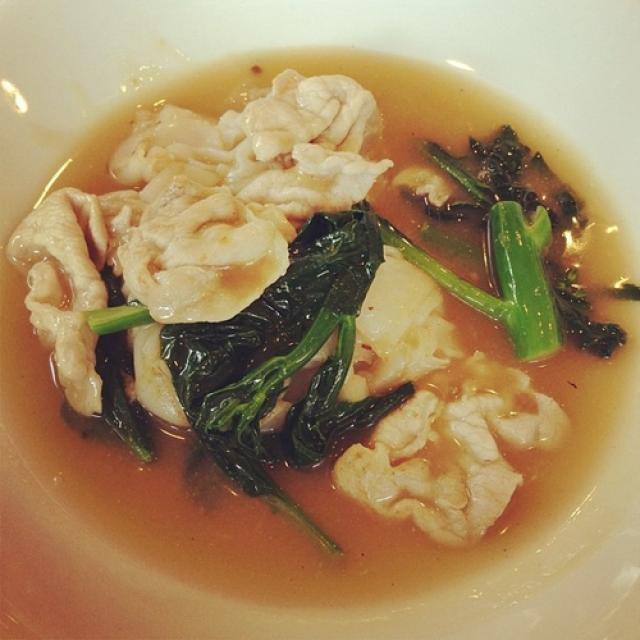面条主食: (9, 23, 619, 611)
